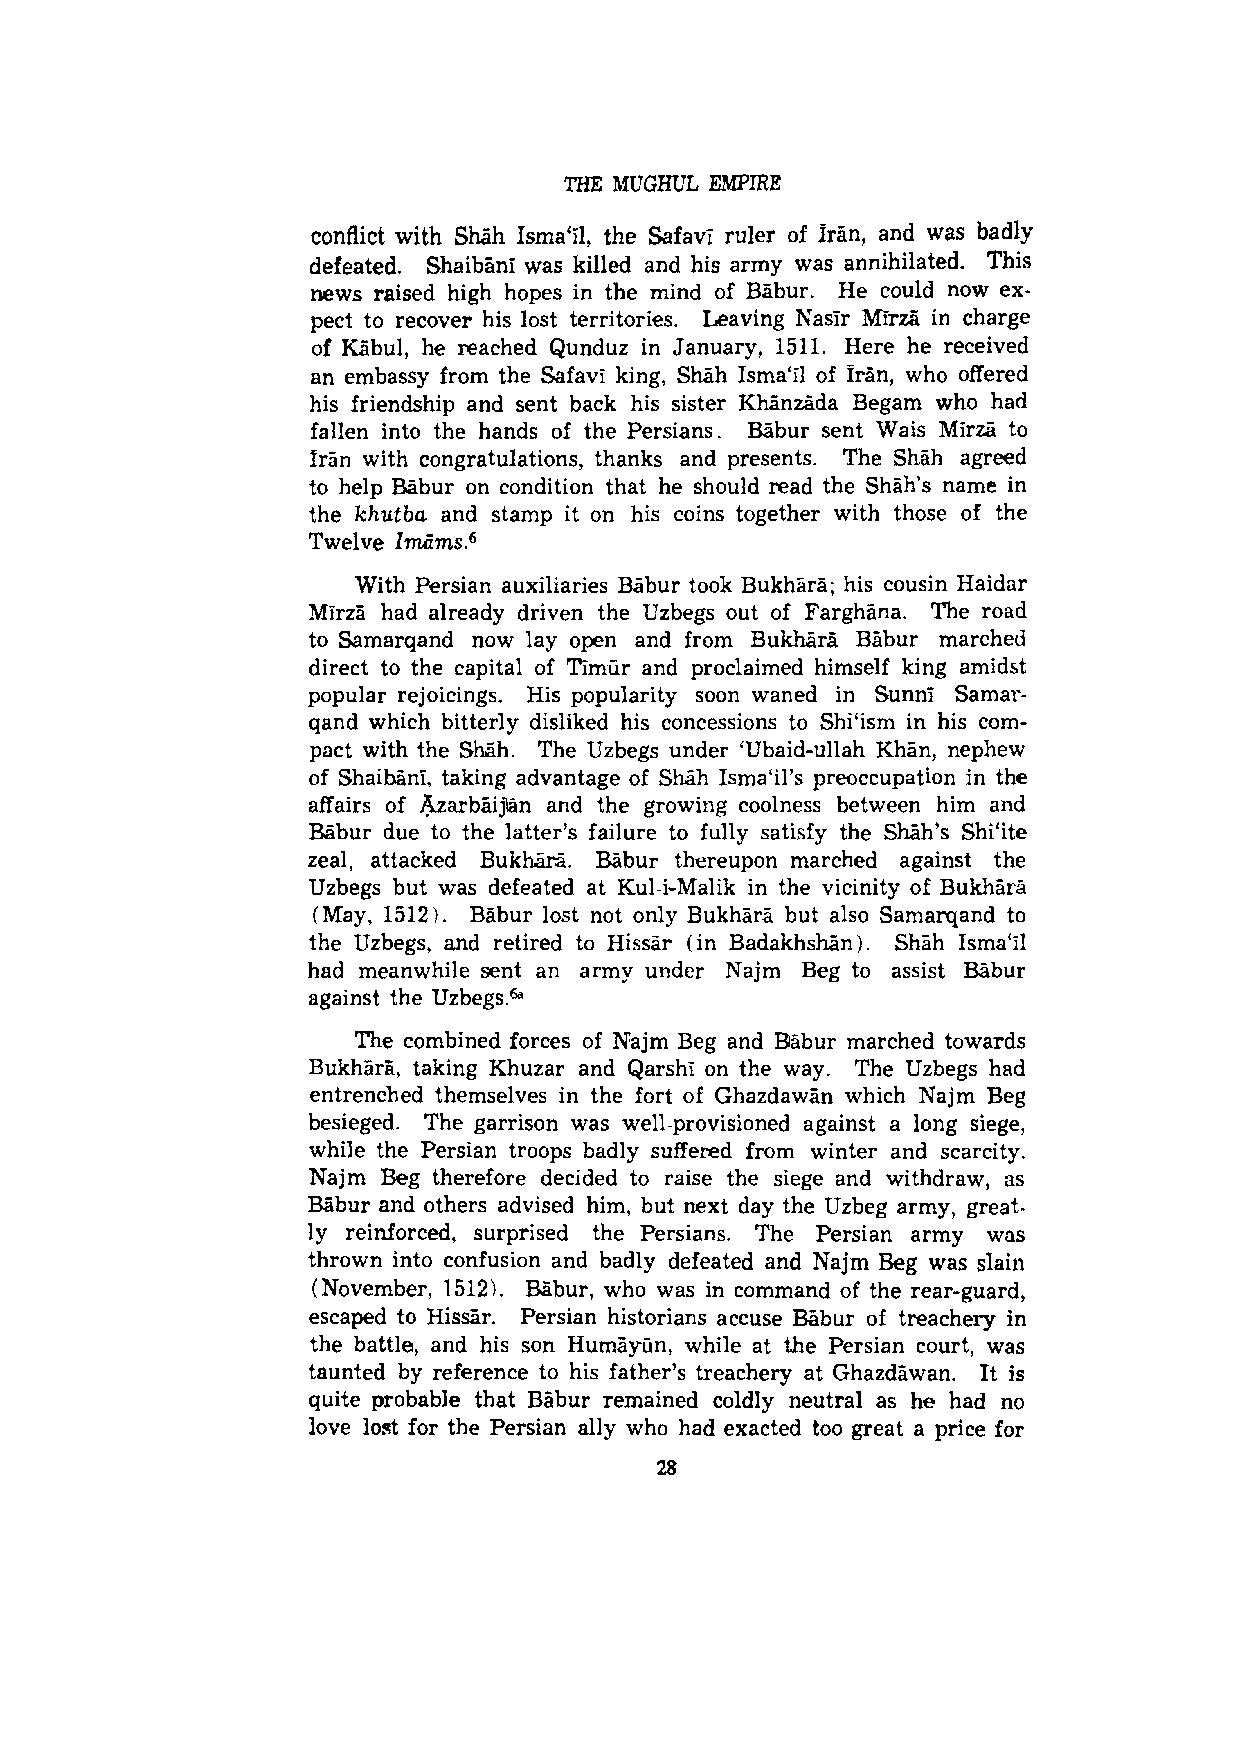chapter: (558, 169, 782, 196)
content: (305, 216, 1036, 1441)
content_pagenumber: (650, 1451, 683, 1488)
